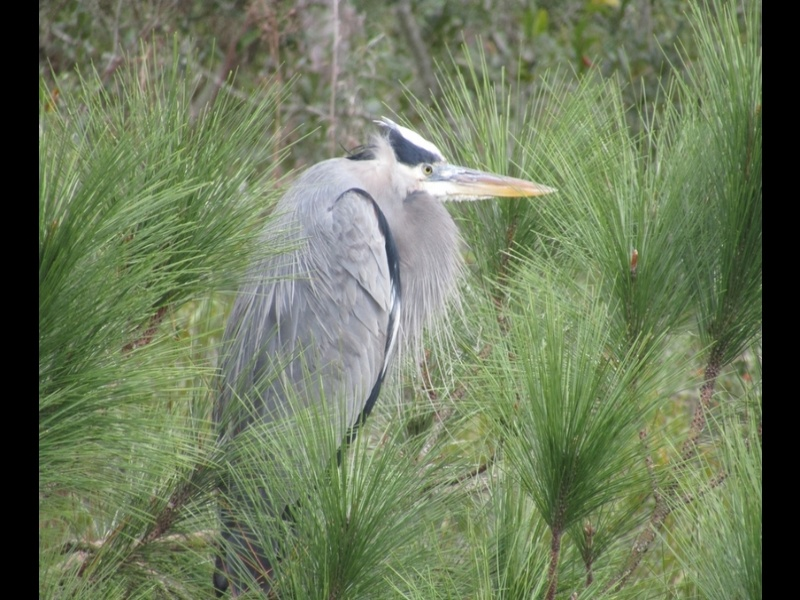heron: (206, 114, 560, 591)
